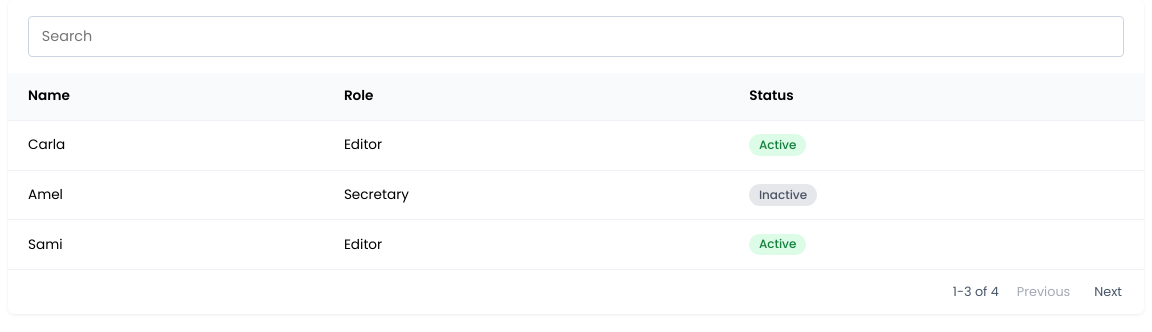
DataTableComponent › client mode › paginates and shows the range
Click the button "Next".
click(1108, 292)  # box [1088,282,1128,302]
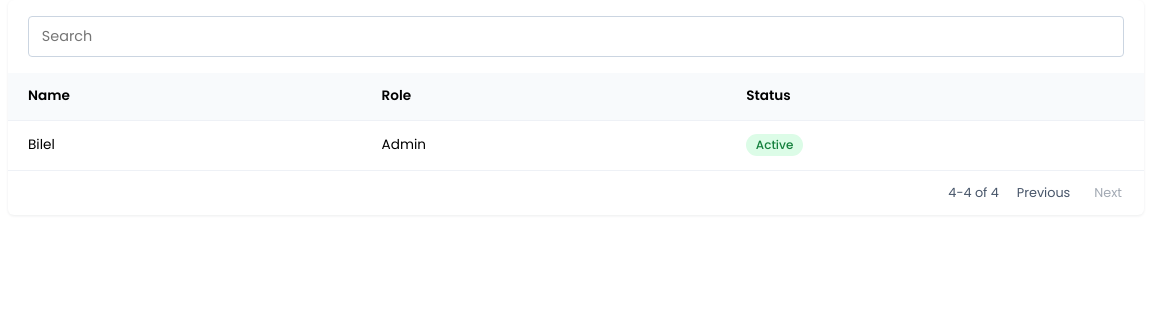
Now the element showing "4-4 of 4 Previous Next" is shown, box [948,182,1128,202]
